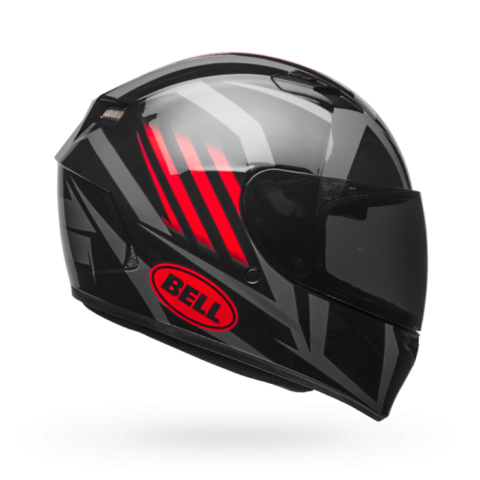with_helmet: (51, 43, 436, 428)
